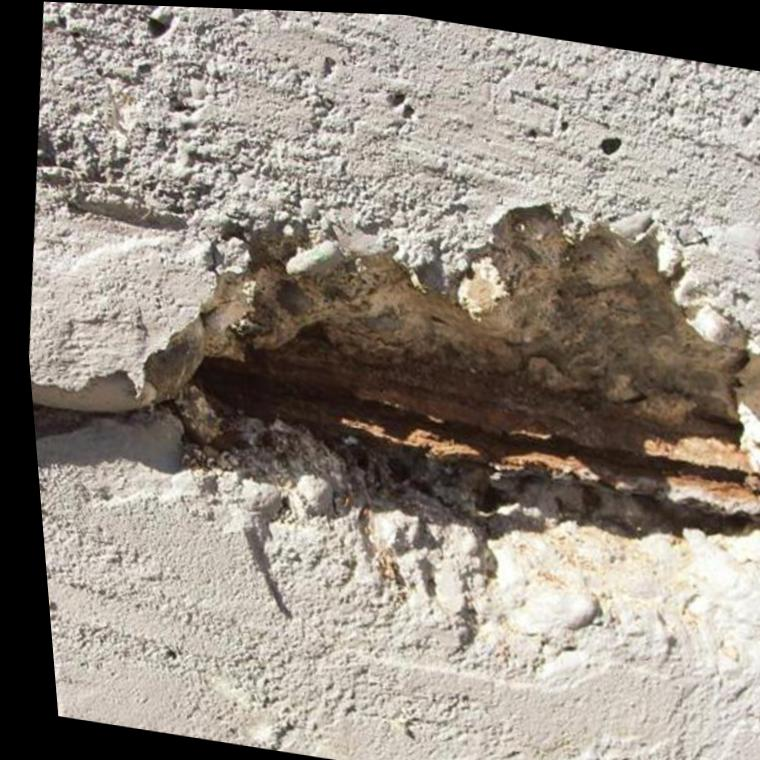damage: (24, 193, 760, 687)
